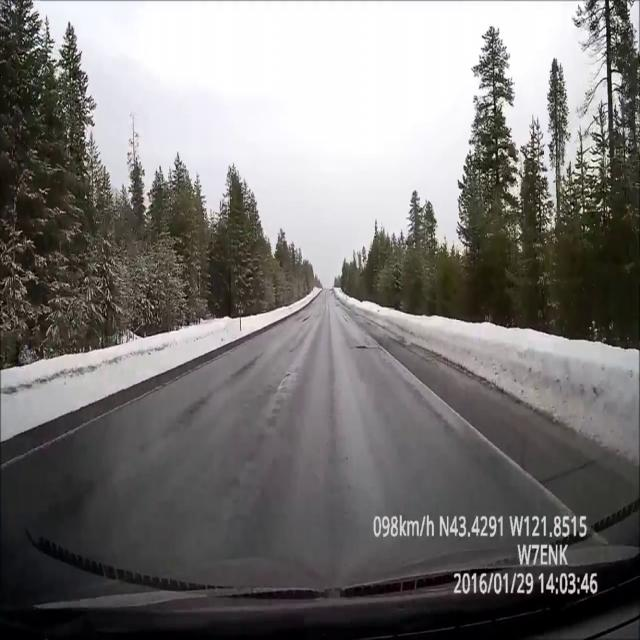Pothole: (354, 344, 369, 350)
